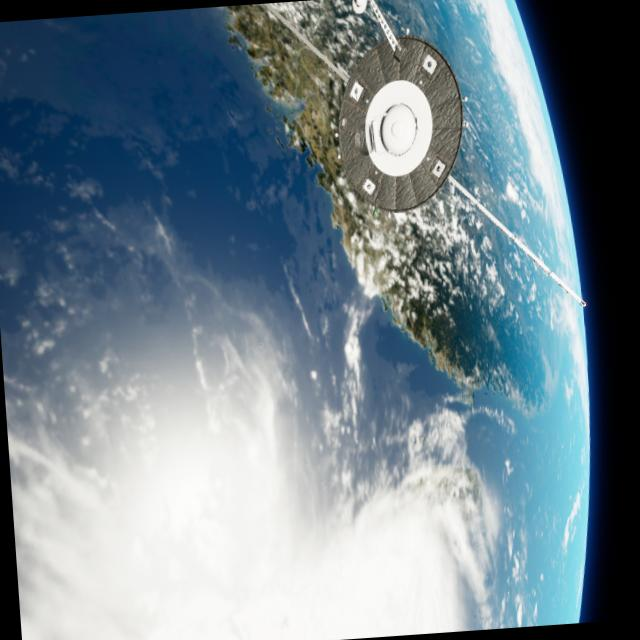Satellites revolving around earth: (330, 28, 471, 218)
